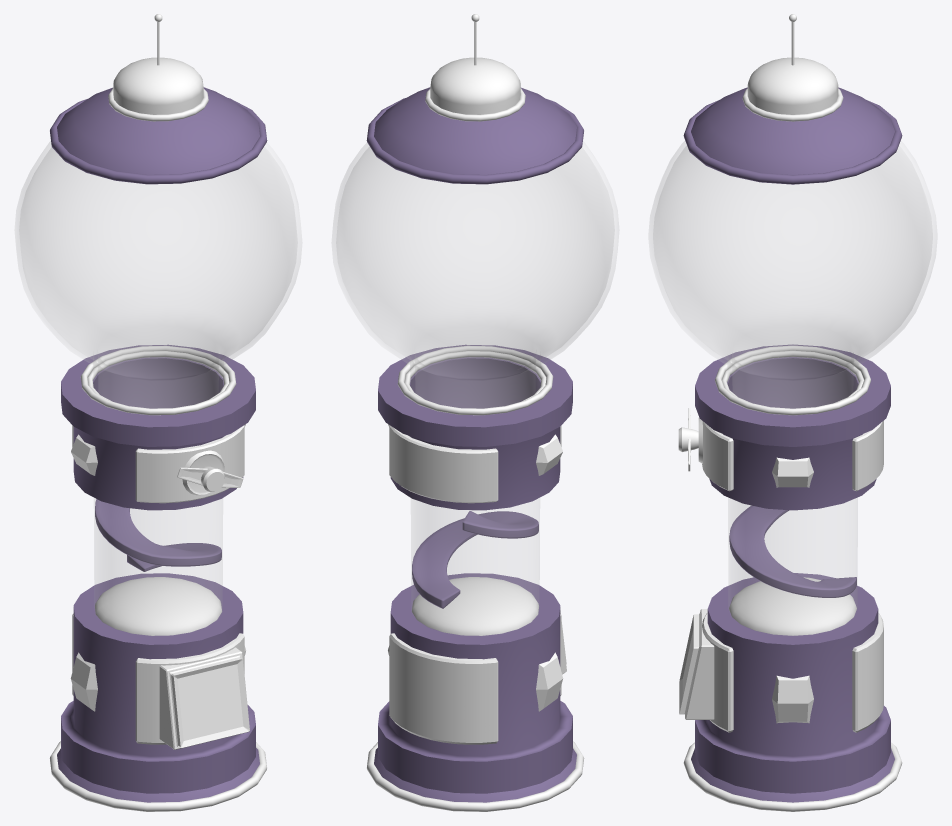
The model's file is empty_machine.glb.
The picture shows the model from 3 angles, left to right: view 1: azimuth 30°, elevation 25°; view 2: azimuth 150°, elevation 25°; view 3: azimuth 270°, elevation 25°; orthographic projection.
Visible parts, largest first — view 1: MachineCapsuleDome, pasted__pasted__pCylinder2, MachineMiddleTop, MachineTopOfGlass, MachineBottomCapsuleRelease, MachineBottomClosing, MachineTopBottom, MachineMiddleRungFront, MachineBottomClearSpinner, MachineMiddleRungFrontReversed1, MachineTopRingBottom, MachineBottomRing (+8 smaller); view 2: MachineCapsuleDome, pasted__pasted__pCylinder2, MachineMiddleTop, MachineTopOfGlass, MachineMiddleRungFront1, MachineMiddleRungFrontReversed, MachineBottomClosing, MachineBottomClearSpinner, MachineTopBottom, MachineTopRingBottom, MachineBottomRing, MachineMiddleTopRing (+5 smaller); view 3: MachineCapsuleDome, pasted__pasted__pCylinder2, MachineMiddleTop, MachineTopOfGlass, MachineBottomClosing, MachineBottomClearSpinner, MachineTopBottom, MachineBottomCapsuleRelease, MachineMiddleRungFront1, MachineTopRingBottom, MachineBottomRing, MachineMiddleTopRing (+8 smaller).
Part boxes in pixels (left/top/right/bottom): MachineCapsuleDome: left=15, top=141, right=301, bottom=635; pasted__pasted__pCylinder2: left=61, top=573, right=255, bottom=793; MachineMiddleTop: left=61, top=344, right=255, bottom=510; MachineTopOfGlass: left=57, top=87, right=259, bottom=174; MachineBottomCapsuleRelease: left=159, top=647, right=249, bottom=749; MachineBottomClosing: left=95, top=577, right=221, bottom=635; MachineTopBottom: left=113, top=57, right=203, bottom=114; MachineMiddleRungFront: left=135, top=425, right=244, bottom=503; MachineBottomClearSpinner: left=95, top=499, right=221, bottom=571; MachineMiddleRungFrontReversed1: left=135, top=633, right=244, bottom=744; MachineTopRingBottom: left=50, top=98, right=267, bottom=184; MachineBottomRing: left=49, top=741, right=266, bottom=811; MachineCapsuleDome: left=332, top=141, right=618, bottom=635; pasted__pasted__pCylinder2: left=378, top=573, right=572, bottom=793; MachineMiddleTop: left=378, top=344, right=572, bottom=510; MachineTopOfGlass: left=374, top=87, right=576, bottom=174; MachineMiddleRungFront1: left=389, top=633, right=498, bottom=744; MachineMiddleRungFrontReversed: left=389, top=425, right=498, bottom=503; MachineBottomClosing: left=412, top=577, right=538, bottom=635; MachineBottomClearSpinner: left=412, top=510, right=538, bottom=608; MachineTopBottom: left=430, top=57, right=520, bottom=114; MachineTopRingBottom: left=366, top=98, right=583, bottom=184; MachineBottomRing: left=367, top=741, right=584, bottom=811; MachineMiddleTopRing: left=397, top=345, right=553, bottom=415; MachineCapsuleDome: left=649, top=141, right=936, bottom=635; pasted__pasted__pCylinder2: left=695, top=573, right=890, bottom=793; MachineMiddleTop: left=695, top=344, right=890, bottom=510; MachineTopOfGlass: left=691, top=87, right=894, bottom=174; MachineBottomClosing: left=729, top=577, right=856, bottom=635; MachineBottomClearSpinner: left=729, top=505, right=856, bottom=597; MachineTopBottom: left=747, top=57, right=838, bottom=114; MachineBottomCapsuleRelease: left=679, top=609, right=714, bottom=719; MachineMiddleRungFront1: left=852, top=613, right=883, bottom=732; MachineTopRingBottom: left=683, top=100, right=902, bottom=184; MachineBottomRing: left=683, top=742, right=902, bottom=811; MachineMiddleTopRing: left=715, top=345, right=870, bottom=415.
Bounding box in the file's own units: 0.0948 × 0.272 × 0.0948.
